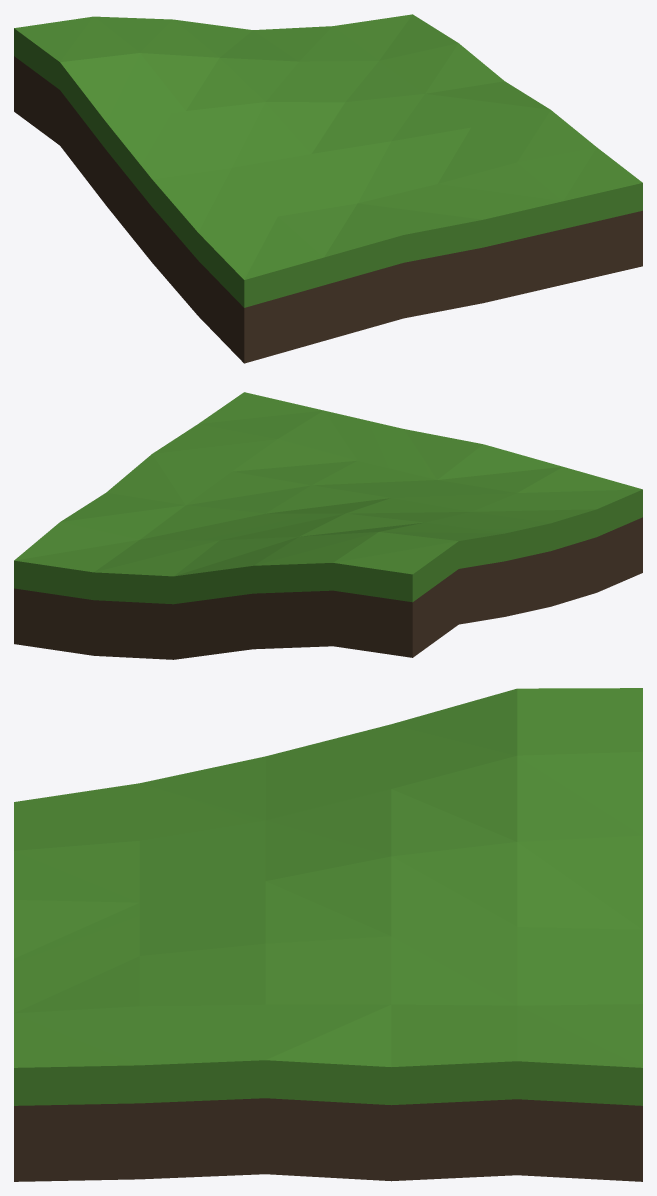
File: terrain-world-hill3.glb
3 renders of one model, top to bottom at view 1: azimuth 30°, elevation 25°; view 2: azimuth 150°, elevation 25°; view 3: azimuth 270°, elevation 25°, orthographic. The views are drawn at different scales.
Visible parts, largest first — view 1: terrain-world-hill3; view 2: terrain-world-hill3; view 3: terrain-world-hill3.
Boxes of the visible parts, bbox=[...] form: terrain-world-hill3: bbox=[14, 14, 642, 363]; terrain-world-hill3: bbox=[14, 392, 642, 659]; terrain-world-hill3: bbox=[14, 688, 642, 1181].
Size of the model in its own units: 30 by 12 by 30.
1 material, 1 textured.
